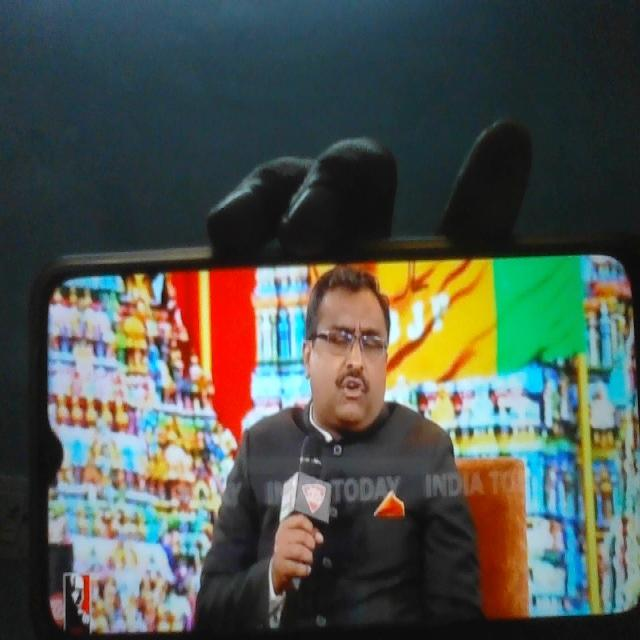fake: (295, 237, 404, 443)
